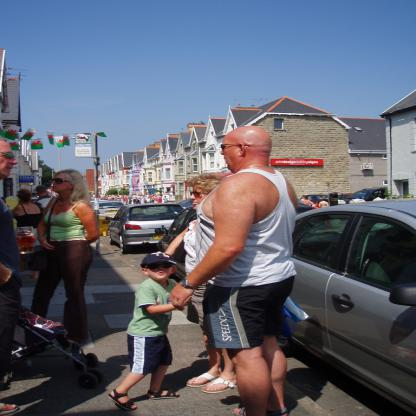Car: (290, 199, 416, 416), (155, 204, 335, 280), (108, 204, 187, 253), (344, 187, 386, 204), (96, 202, 126, 218), (180, 200, 192, 209)
